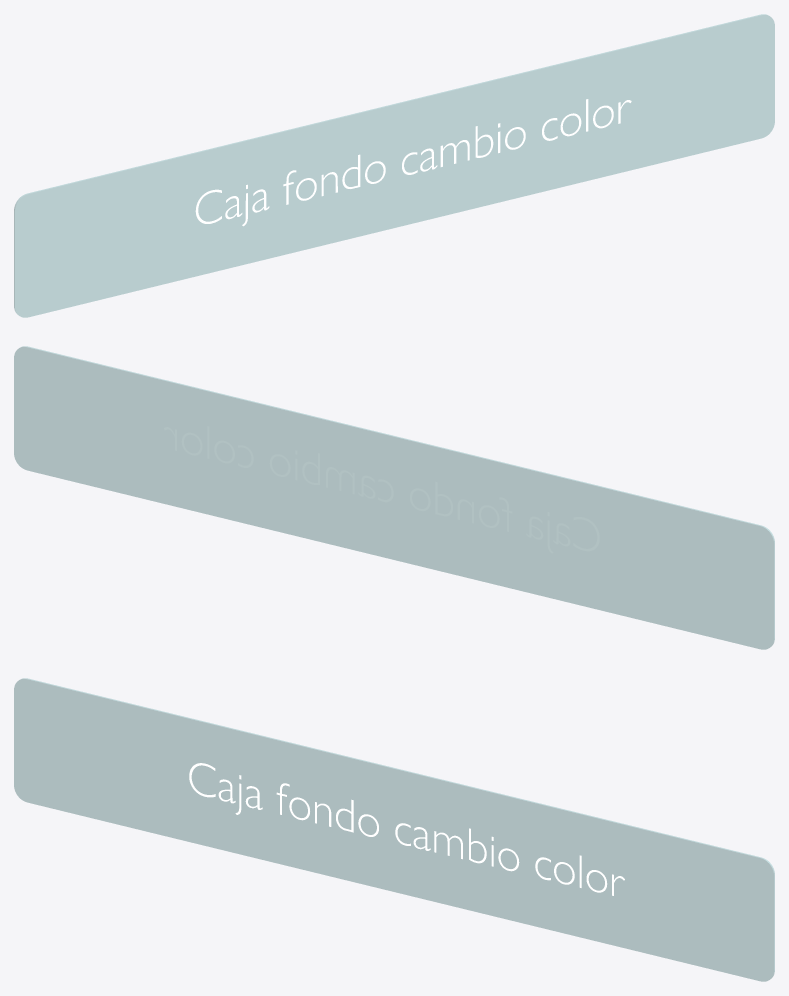
The model's file is Panel_boton_escena_04.glb.
The picture shows the model from 3 angles, top to bottom: view 1: azimuth 30°, elevation 25°; view 2: azimuth 150°, elevation 25°; view 3: azimuth 330°, elevation 25°; orthographic projection.
Visible parts, largest first — view 1: panel_boton_escena_04; view 2: panel_boton_escena_04; view 3: panel_boton_escena_04.
Part boxes in pixels (<box>): panel_boton_escena_04: <box>14,14,774,317</box>; panel_boton_escena_04: <box>14,346,774,649</box>; panel_boton_escena_04: <box>14,678,774,981</box>.
Size of the model in its own units: 1.24 by 0.1916 by 0.0107.
